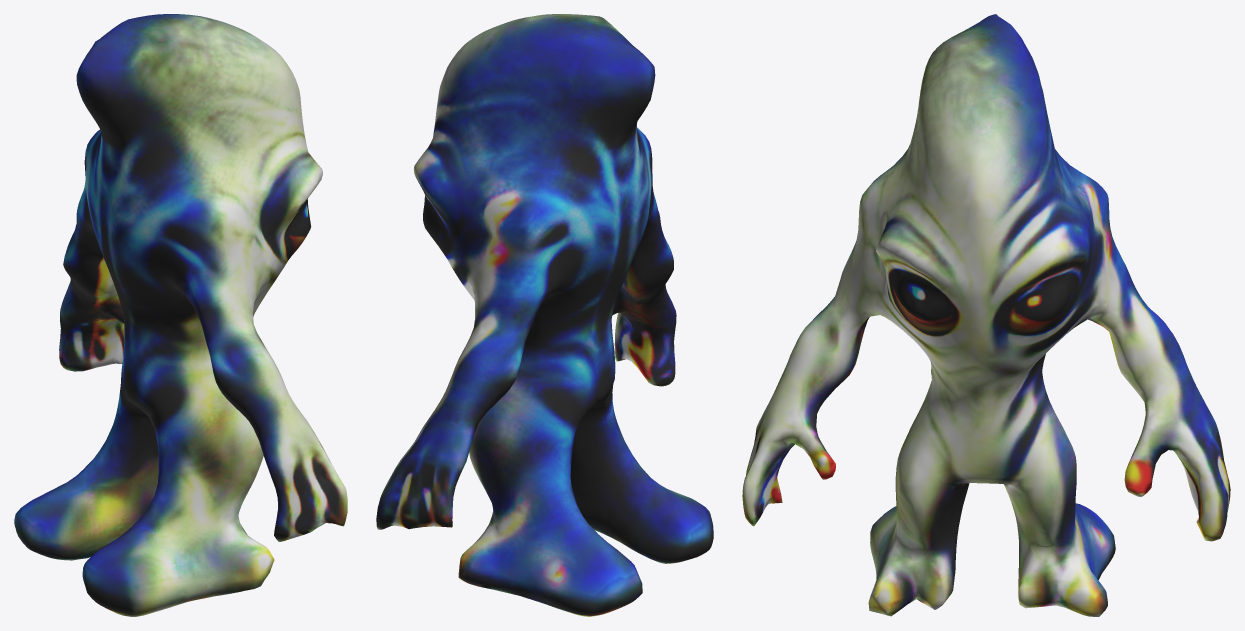
Rendered from alien6.glb.
3 renders of one model, left to right at view 1: azimuth 30°, elevation 25°; view 2: azimuth 150°, elevation 25°; view 3: azimuth 270°, elevation 25°, orthographic. The views are drawn at different scales.
Parts seen in each view (by area): view 1: Mesh1; view 2: Mesh1; view 3: Mesh1.
Part boxes in pixels (x1=…): Mesh1: x1=14, y1=14, x2=347, y2=616; Mesh1: x1=376, y1=14, x2=713, y2=616; Mesh1: x1=742, y1=14, x2=1230, y2=616.
Size of the model in its own units: 0.5568 by 1.2 by 0.9406.
Materials: 1 (1 with a texture image).
